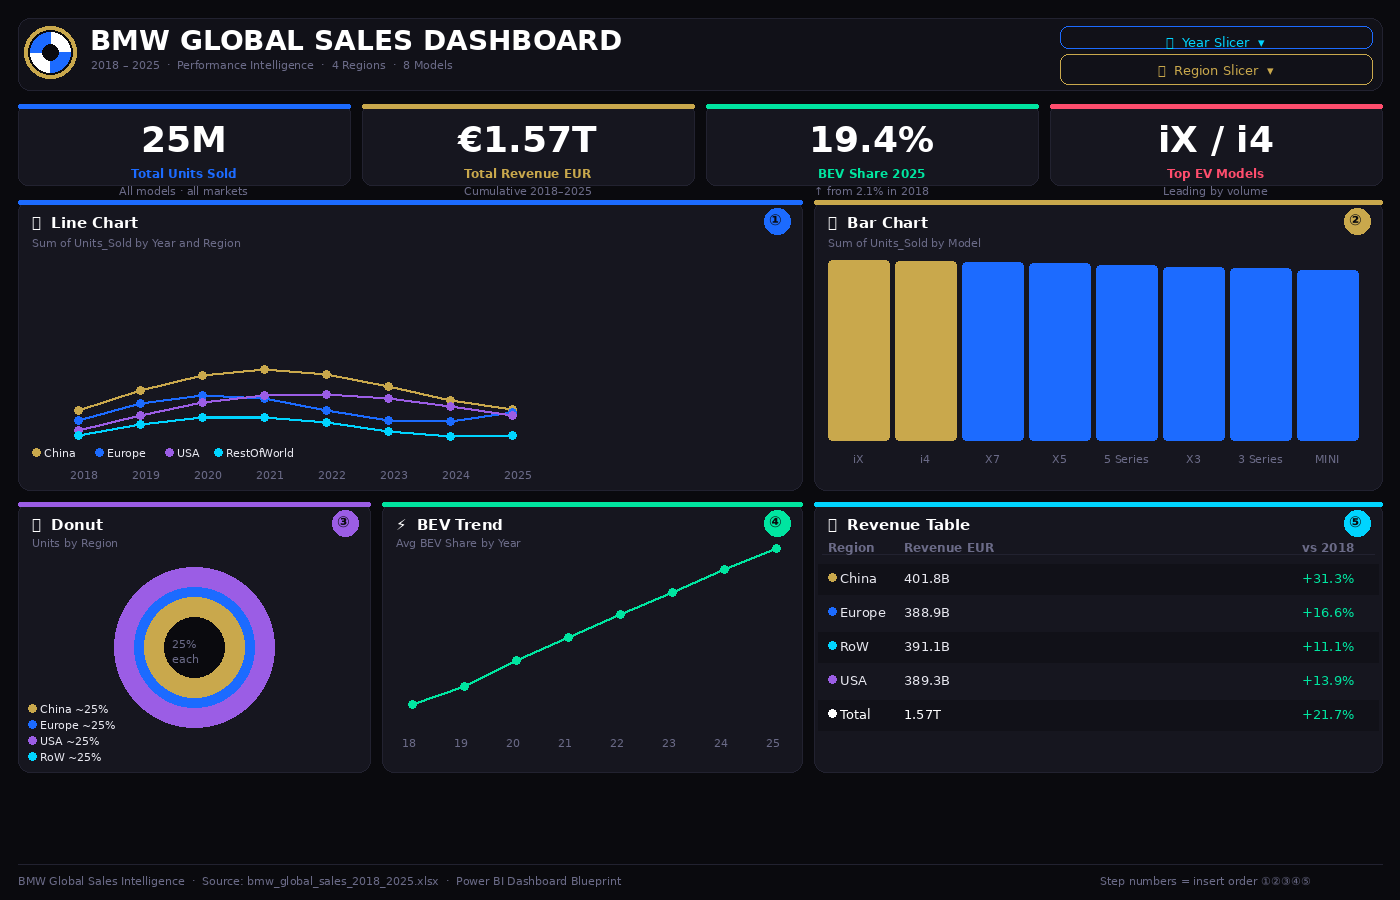

The page's visual inventory and layout, read from the dashboard file:
{"tool":"powerbi","page":{"name":"Page 1","canvas":[1280,720],"ordinal":0},"visuals":[{"type":"lineChart","fields":{"Category":["bmw_global_sales_2018_2025.Year"],"Series":["bmw_global_sales_2018_2025.Region"],"Y":["Sum(bmw_global_sales_2018_2025.Units_Sold)"]},"box":[10,280,840,184],"z":0},{"type":"donutChart","fields":{"Category":["bmw_global_sales_2018_2025.Region"],"Y":["Sum(bmw_global_sales_2018_2025.Units_Sold)"]},"box":[10,456,414,264],"z":1000},{"type":"clusteredColumnChart","fields":{"Category":["bmw_global_sales_2018_2025.Model"],"Y":["Sum(bmw_global_sales_2018_2025.Units_Sold)"]},"box":[832,272,448,448],"z":2000},{"type":"lineChart","fields":{"Category":["bmw_global_sales_2018_2025.Year"],"Y":["Avg(bmw_global_sales_2018_2025.BEV_Share)"],"Series":["bmw_global_sales_2018_2025.Region"]},"box":[424,456,408,264],"z":3000},{"type":"cardVisual","fields":{"Data":["Sum(bmw_global_sales_2018_2025.Units_Sold)"]},"box":[10,98,170,182],"z":4000},{"type":"cardVisual","fields":{"Data":["Sum(bmw_global_sales_2018_2025.Revenue_EUR)"]},"box":[180,98,202,182],"z":5000},{"type":"cardVisual","fields":{"Data":["Avg(bmw_global_sales_2018_2025.BEV_Share)"]},"box":[382,98,280,182],"z":6000},{"type":"slicer","fields":{"Values":["bmw_global_sales_2018_2025.Year"]},"box":[1000,0,280,98],"z":7000},{"type":"slicer","fields":{"Values":["bmw_global_sales_2018_2025.Region"]},"box":[382,0,638,98],"z":8000},{"type":"pivotTable","fields":{"Rows":["bmw_global_sales_2018_2025.Region"],"Values":["Sum(bmw_global_sales_2018_2025.Revenue_EUR)","Sum(bmw_global_sales_2018_2025.Units_Sold)","Sum(bmw_global_sales_2018_2025.Avg_Price_EUR)"]},"box":[662,98,280,182],"z":9000},{"type":"slicer","fields":{"Values":["bmw_global_sales_2018_2025.Model"]},"box":[942,98,338,174],"z":10000},{"type":"textbox","box":[10,0,372,98],"z":11000}]}

Visuals, with their boxes on the page's 1280x720 design canvas (x1, y1, x2, y2). These are canvas units, not pixel positions in the 1400x900 screenshot, which may show the page scaled, cropped or inside an application window:
lineChart - bmw_global_sales_2018_2025.Year x bmw_global_sales_2018_2025.Region: bbox=[10, 280, 850, 464]
donutChart - bmw_global_sales_2018_2025.Region x Sum(bmw_global_sales_2018_2025.Units_Sold): bbox=[10, 456, 424, 720]
clusteredColumnChart - bmw_global_sales_2018_2025.Model x Sum(bmw_global_sales_2018_2025.Units_Sold): bbox=[832, 272, 1280, 720]
lineChart - bmw_global_sales_2018_2025.Year x Avg(bmw_global_sales_2018_2025.BEV_Share): bbox=[424, 456, 832, 720]
cardVisual - Sum(bmw_global_sales_2018_2025.Units_Sold): bbox=[10, 98, 180, 280]
cardVisual - Sum(bmw_global_sales_2018_2025.Revenue_EUR): bbox=[180, 98, 382, 280]
cardVisual - Avg(bmw_global_sales_2018_2025.BEV_Share): bbox=[382, 98, 662, 280]
slicer - bmw_global_sales_2018_2025.Year: bbox=[1000, 0, 1280, 98]
slicer - bmw_global_sales_2018_2025.Region: bbox=[382, 0, 1020, 98]
pivotTable - bmw_global_sales_2018_2025.Region x Sum(bmw_global_sales_2018_2025.Revenue_EUR): bbox=[662, 98, 942, 280]
slicer - bmw_global_sales_2018_2025.Model: bbox=[942, 98, 1280, 272]
textbox: bbox=[10, 0, 382, 98]
